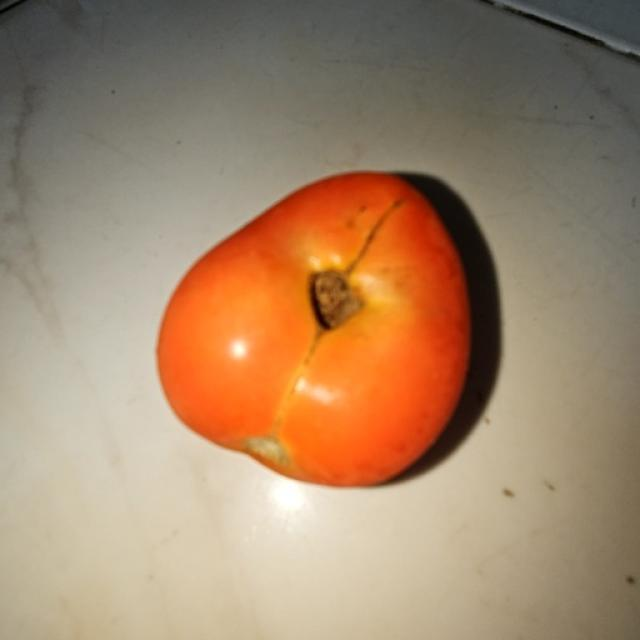Red: (154, 168, 473, 488)
